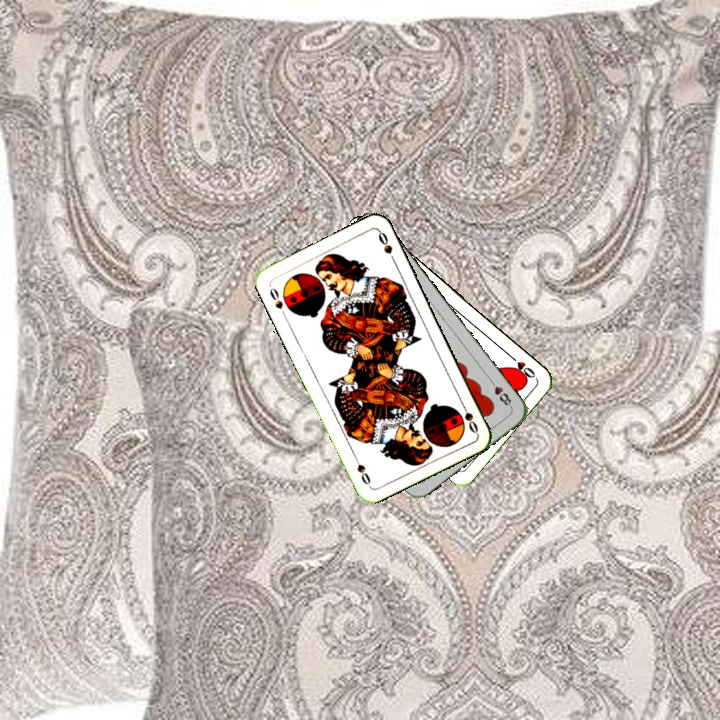H8: (485, 375, 514, 410)
HO: (504, 350, 538, 381)
SO: (457, 397, 481, 436), (265, 281, 286, 312)
